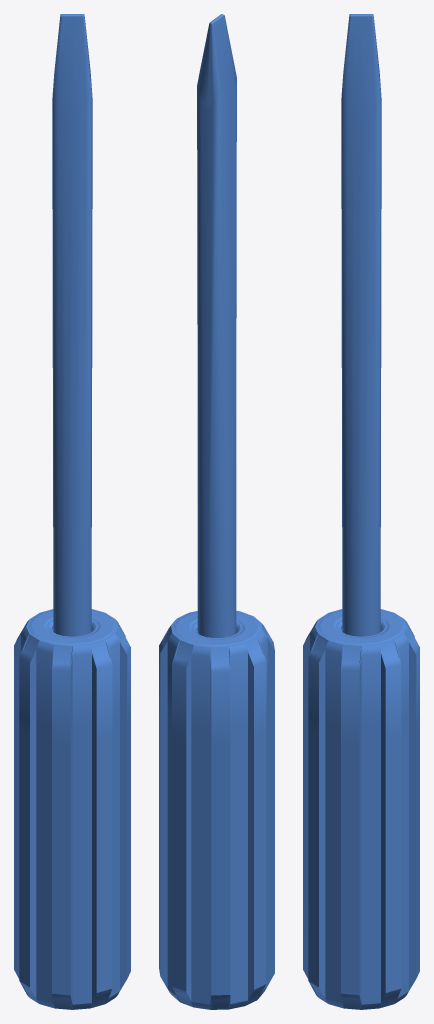
Rendered from screwdriver.obj.
3 views of the same model, side by side, from view 1: azimuth 90°, elevation 25°; view 2: azimuth 150°, elevation 25°; view 3: azimuth 270°, elevation 25° (orthographic).
Parts seen in each view (by area): view 1: Cylinder001; view 2: Cylinder001; view 3: Cylinder001.
Boxes of the visible parts, box(x1,y1,x2,y2) form: Cylinder001: box(14, 14, 130, 1009); Cylinder001: box(159, 14, 274, 1009); Cylinder001: box(303, 14, 419, 1009).
Bounding box in the file's own units: 477 × 4445 × 477.
